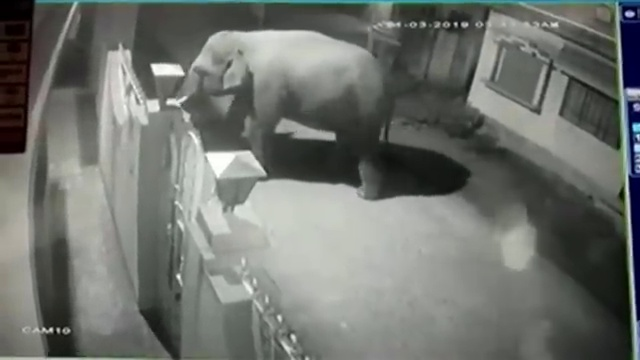Elephant: (176, 30, 392, 201)
